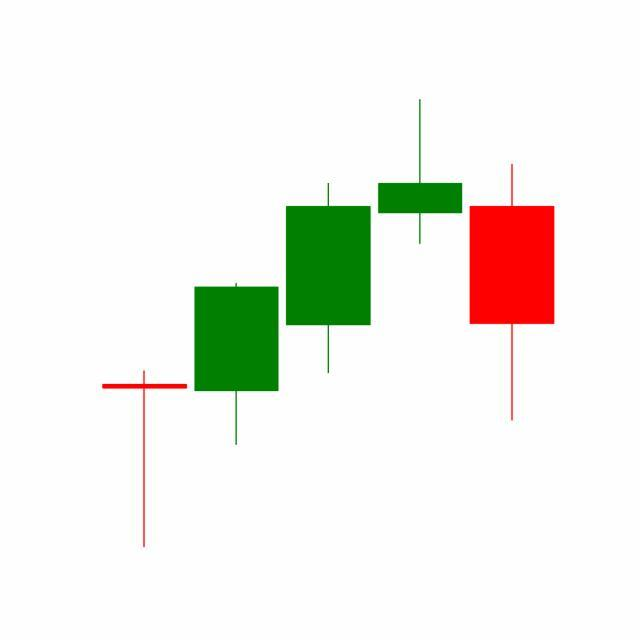Advance Block: (190, 100, 467, 450)
